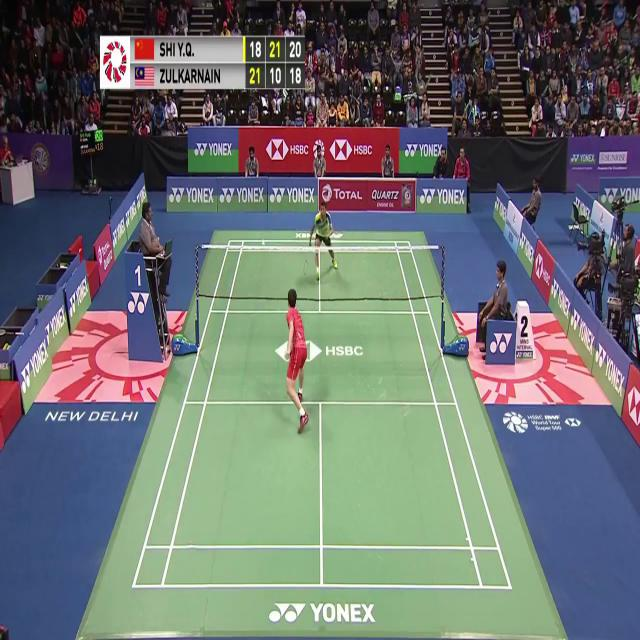Shuttlecock: (259, 238, 265, 249)
